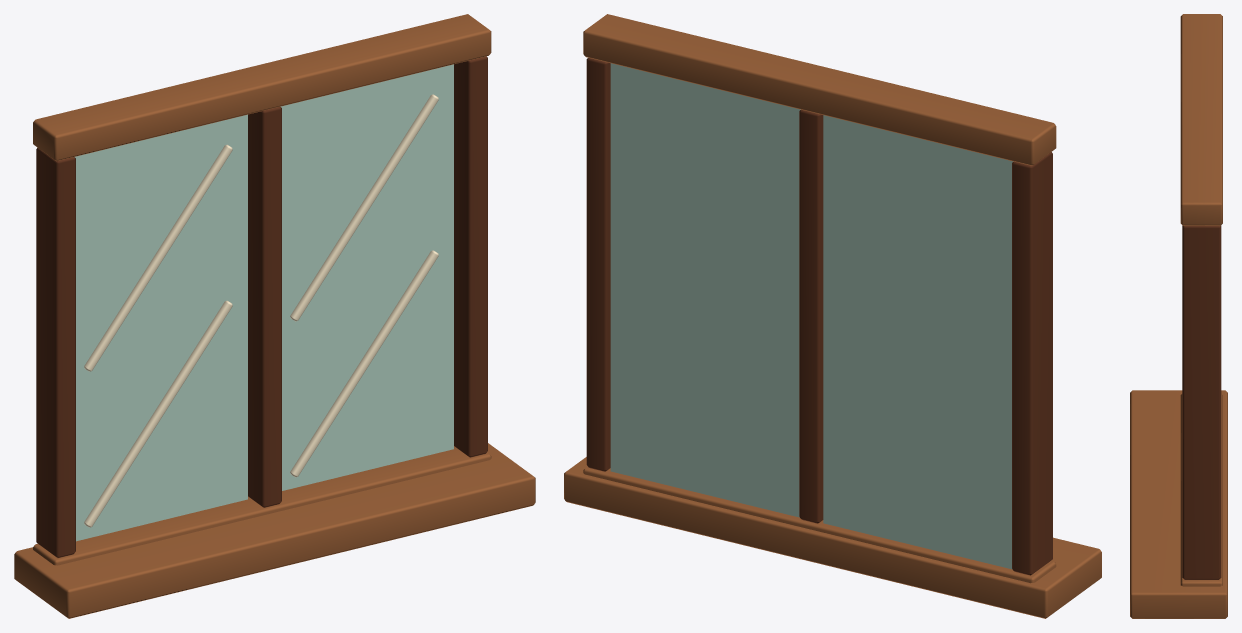
The model's file is wood_window.fbx.
3 renders of one model, left to right at view 1: azimuth 30°, elevation 25°; view 2: azimuth 150°, elevation 25°; view 3: azimuth 270°, elevation 25°, orthographic. The views are drawn at different scales.
Visible parts, largest first — view 1: wood_window; view 2: wood_window; view 3: wood_window.
Boxes of the visible parts, <box> form: wood_window: <box>14,14,535,618</box>; wood_window: <box>564,14,1101,618</box>; wood_window: <box>1130,14,1227,618</box>.
Size of the model in its own units: 1.48 by 1.39 by 0.3.
